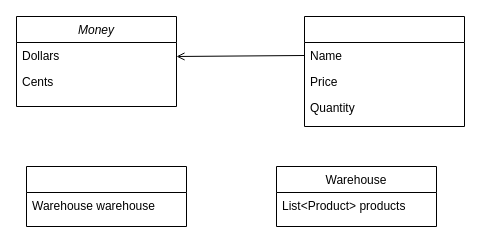
This 481x243 diagram has some shape labels left out. Each missing label, with the box of its shape:
Product: (304, 16, 464, 126)
Reporting: (26, 166, 186, 226)
